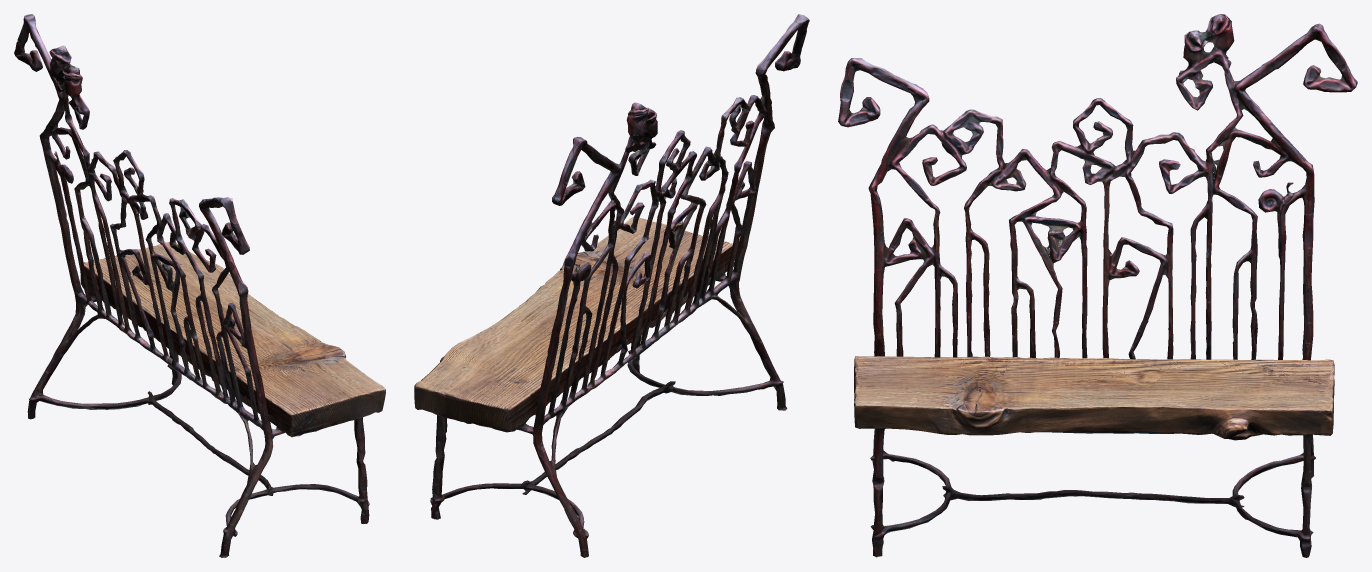
The model's file is bench.glb.
3 renders of one model, left to right at view 1: azimuth 30°, elevation 25°; view 2: azimuth 150°, elevation 25°; view 3: azimuth 270°, elevation 25°, orthographic. The views are drawn at different scales.
Visible parts, largest first — view 1: model.001; view 2: model.001; view 3: model.001.
Boxes of the visible parts, box(x1,y1,x2,y2) form: model.001: box(14, 14, 385, 557); model.001: box(414, 14, 809, 557); model.001: box(838, 14, 1357, 557).
Size of the model in its own units: 2.16 by 4.44 by 4.57.
1 material, 1 textured.
